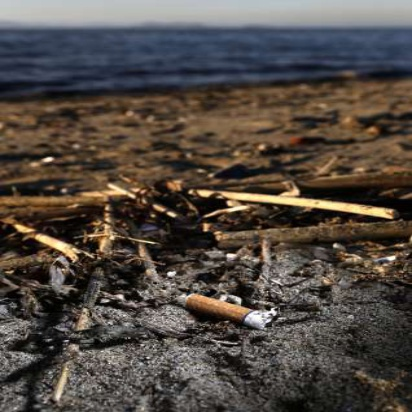cigarette: (175, 287, 284, 331)
